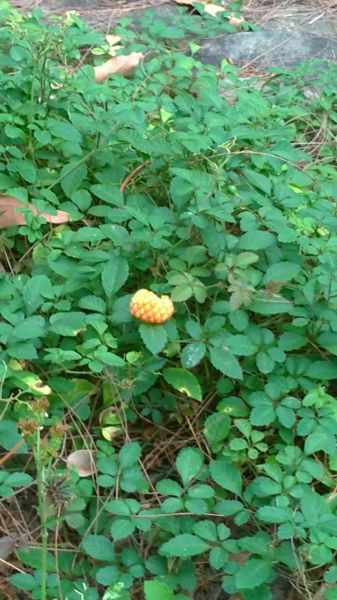eggs: (123, 287, 181, 327)
